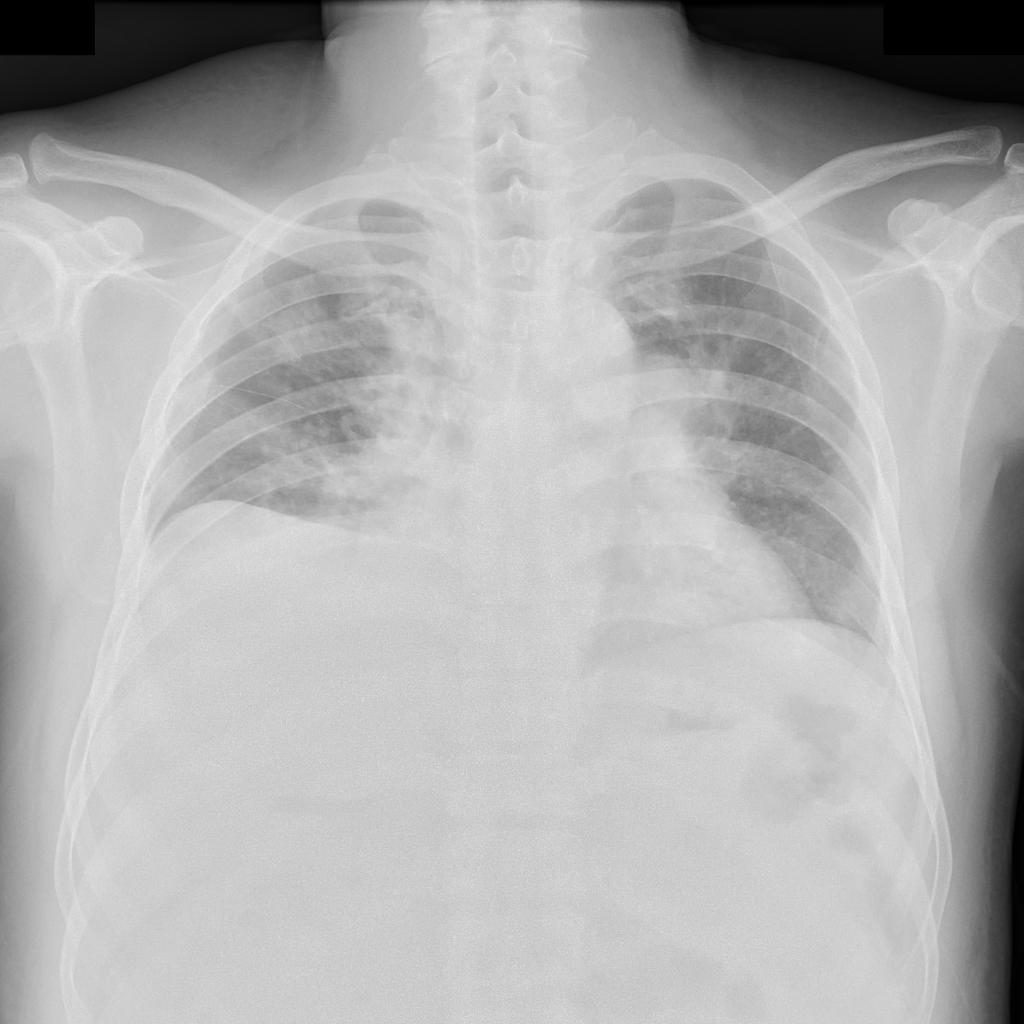Nodule: (645, 358, 738, 486)
